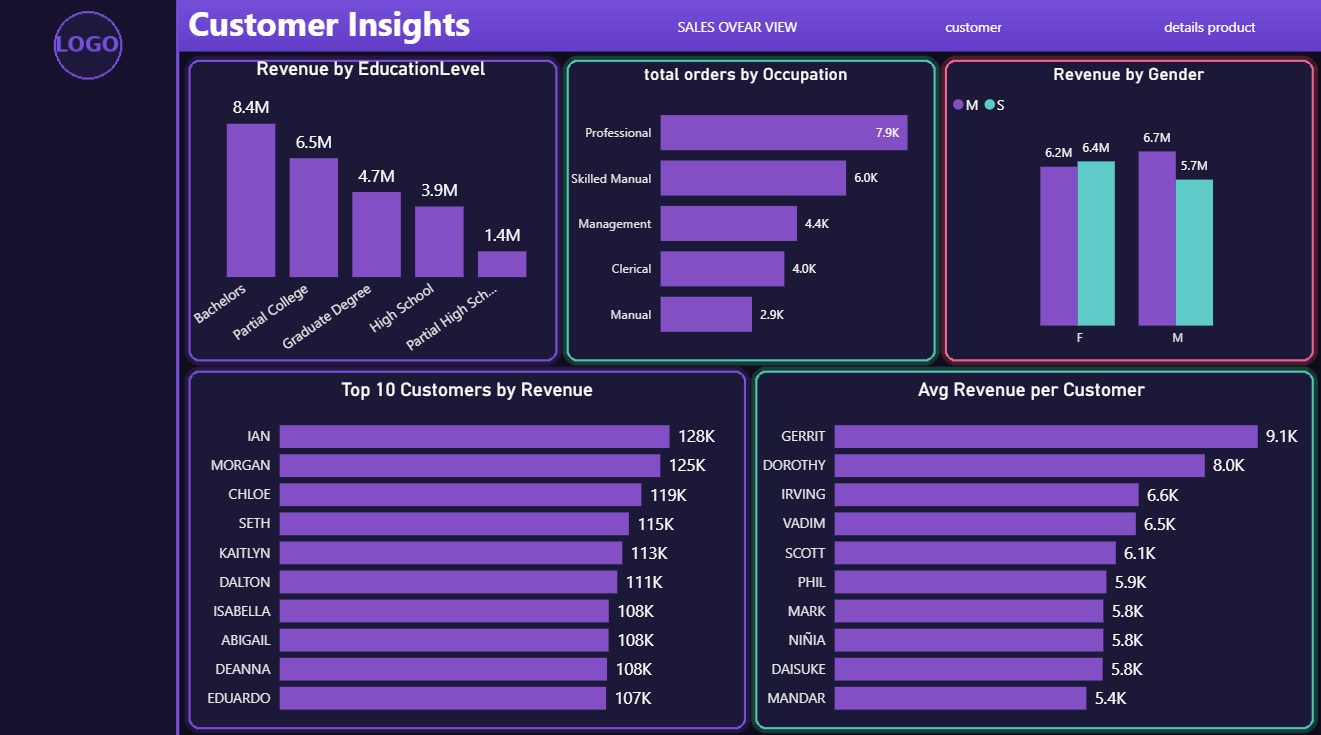

Layout of this report page (visuals, bound fields, positions):
{"tool":"powerbi","page":{"name":"customer","canvas":[1280,720],"ordinal":1},"visuals":[{"type":"barChart","title":"Top 10 Customers by Revenue","fields":{"Category":["customer.FirstName","customer.LastName"],"Y":["new messure.Revenue"]},"box":[193.5,370.5,521.4,336.2],"z":0},{"type":"barChart","fields":{"Category":["customer.Occupation"],"Y":["new messure.total orders"]},"box":[542,65.9,362.3,282.7],"z":1000},{"type":"clusteredColumnChart","title":"Revenue by Gender ","fields":{"Category":["customer.Gender"],"Y":["new messure.Revenue"],"Series":["customer.MaritalStatus"]},"box":[916.6,65.9,351.3,282.7],"z":2000},{"type":"columnChart","fields":{"Y":["new messure.Revenue"],"Category":["customer.EducationLevel"]},"box":[179.8,60.4,362.3,299.1],"z":3000},{"type":"barChart","title":"Avg Revenue per Customer","fields":{"Category":["customer.FirstName","customer.LastName"],"Y":["new messure.Customer LTV"]},"box":[728.6,370.5,539.3,336.2],"z":4000},{"type":"pageNavigator","box":[605.1,0,675.1,60.4],"z":5000},{"type":"textbox","box":[179.8,0,500.9,60.4],"z":6000}]}

Visuals, with their boxes in screenshot pixels (x1, y1, x2, y2), scaled from the page's 1280x720 canvas onto the 1321x735 screenshot:
"Top 10 Customers by Revenue" barChart: 200,378,738,721
barChart - customer.Occupation x new messure.total orders: 559,67,933,356
"Revenue by Gender " clusteredColumnChart: 946,67,1309,356
columnChart - new messure.Revenue x customer.EducationLevel: 186,62,559,367
"Avg Revenue per Customer" barChart: 752,378,1309,721
pageNavigator: 624,0,1320,62
textbox: 186,0,703,62
